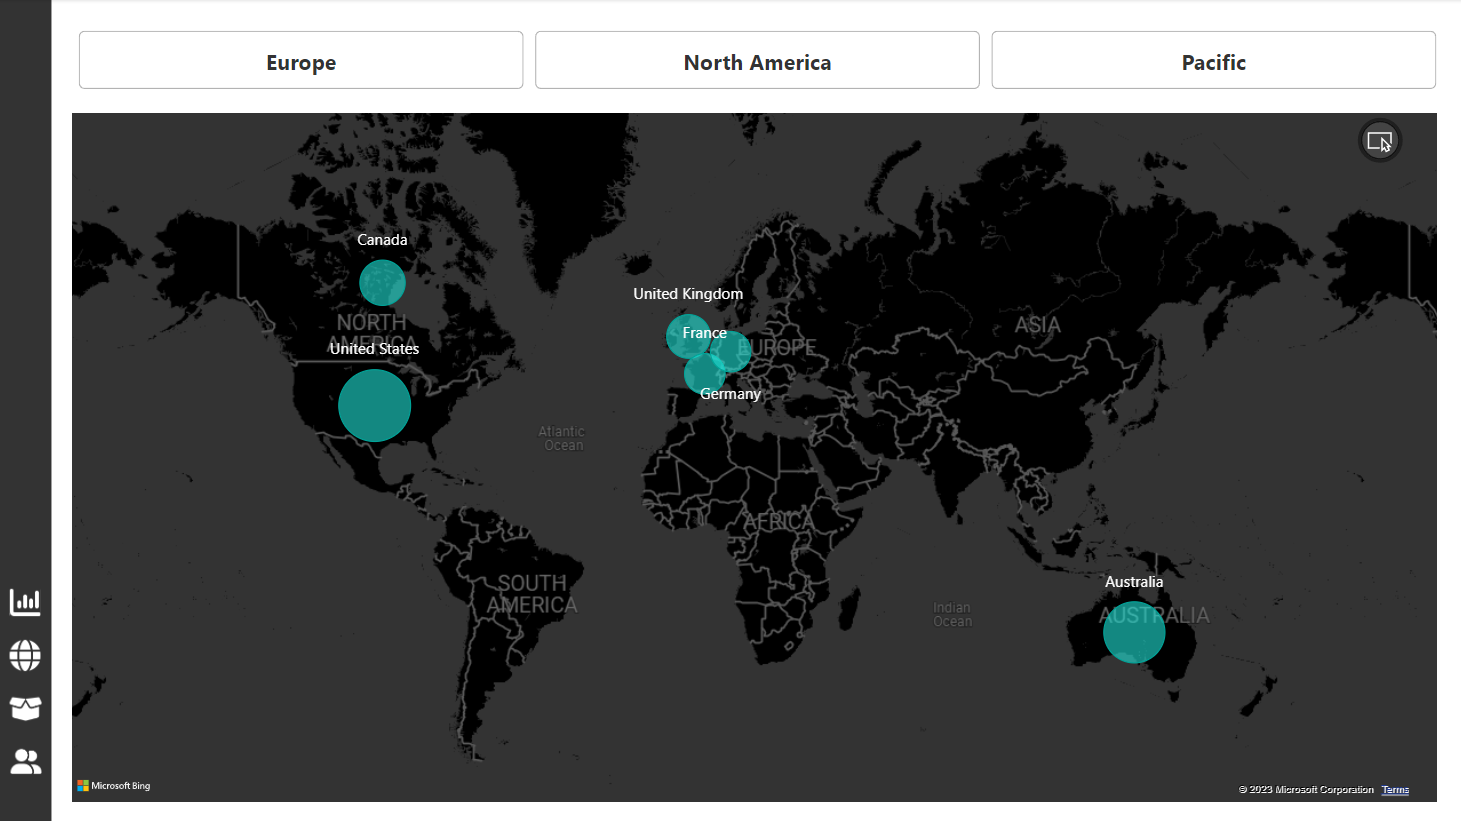

This screenshot's page, from the dashboard's own definition file:
{"tool":"powerbi","page":{"name":"Map","canvas":[1280,720],"ordinal":1},"visuals":[{"type":"shape","box":[0,0,45,720],"z":0},{"type":"map","fields":{"Category":["Territory Lookup.Country"],"Size":["Measure Table.Total Orders"]},"box":[56,72,1208,632],"z":1000},{"type":"actionButton","box":[4.5,508.1,35.3,39.8],"z":1000,"group":"g1"},{"type":"advancedSlicerVisual","fields":{"Values":["Territory Lookup.Continent"]},"box":[64,0,1200,72],"z":2000},{"type":"actionButton","box":[4.5,554.3,35.3,39.8],"z":2000,"group":"g1"},{"type":"group","id":"g1","title":"Navigation Buttons","box":[4.1,508.1,36.1,178.9],"z":3000},{"type":"actionButton","box":[4.5,647.4,35.2,39.6],"z":3000,"group":"g1"},{"type":"actionButton","box":[4.1,600.5,36.1,40.5],"z":4000,"group":"g1"}]}

Visuals, with their boxes on the page's 1280x720 design canvas (x1, y1, x2, y2). These are canvas units, not pixel positions in the 1461x821 screenshot, which may show the page scaled, cropped or inside an application window:
shape: box(0, 0, 45, 720)
map - Territory Lookup.Country x Measure Table.Total Orders: box(56, 72, 1264, 704)
actionButton: box(4, 508, 40, 548)
advancedSlicerVisual - Territory Lookup.Continent: box(64, 0, 1264, 72)
actionButton: box(4, 554, 40, 594)
"Navigation Buttons" group: box(4, 508, 40, 687)
actionButton: box(4, 647, 40, 687)
actionButton: box(4, 600, 40, 641)
